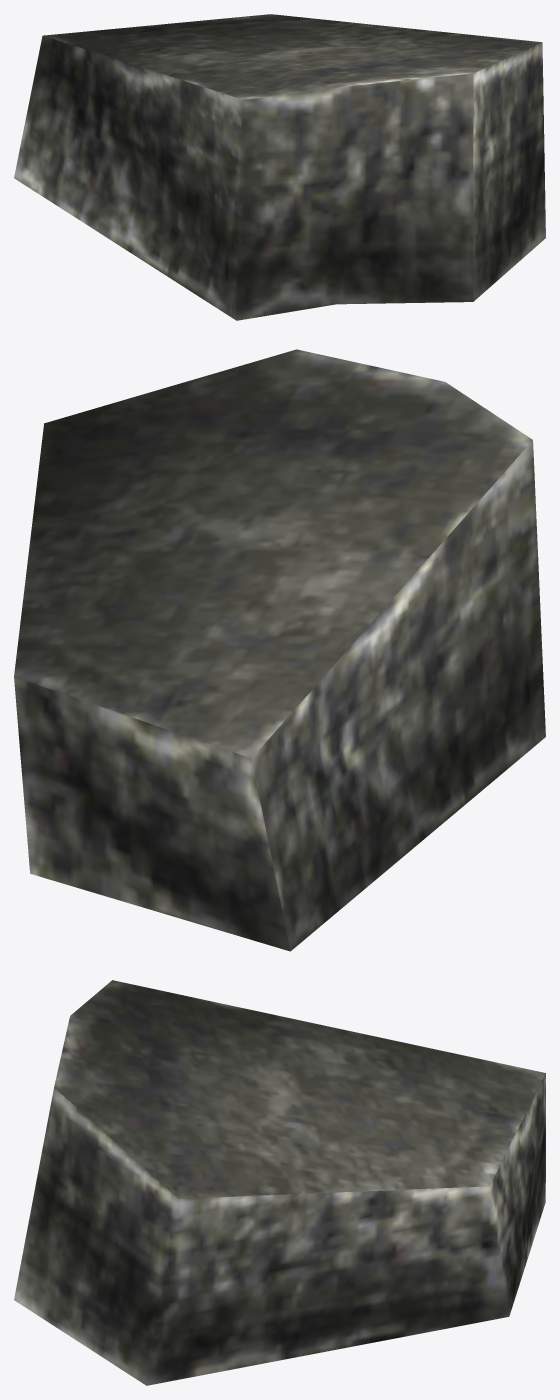
The model's file is Stones_17.fbx.
3 views of the same model, one above another, from view 1: azimuth 30°, elevation 25°; view 2: azimuth 150°, elevation 25°; view 3: azimuth 270°, elevation 25° (orthographic). The views are drawn at different scales.
Visible parts, largest first — view 1: Stones_17; view 2: Stones_17; view 3: Stones_17.
Part boxes in pixels (x1,y1,x2,y2): Stones_17: [14, 14, 545, 320]; Stones_17: [14, 349, 545, 951]; Stones_17: [14, 980, 545, 1385].
Size of the model in its own units: 70.2 by 44.48 by 85.93.
